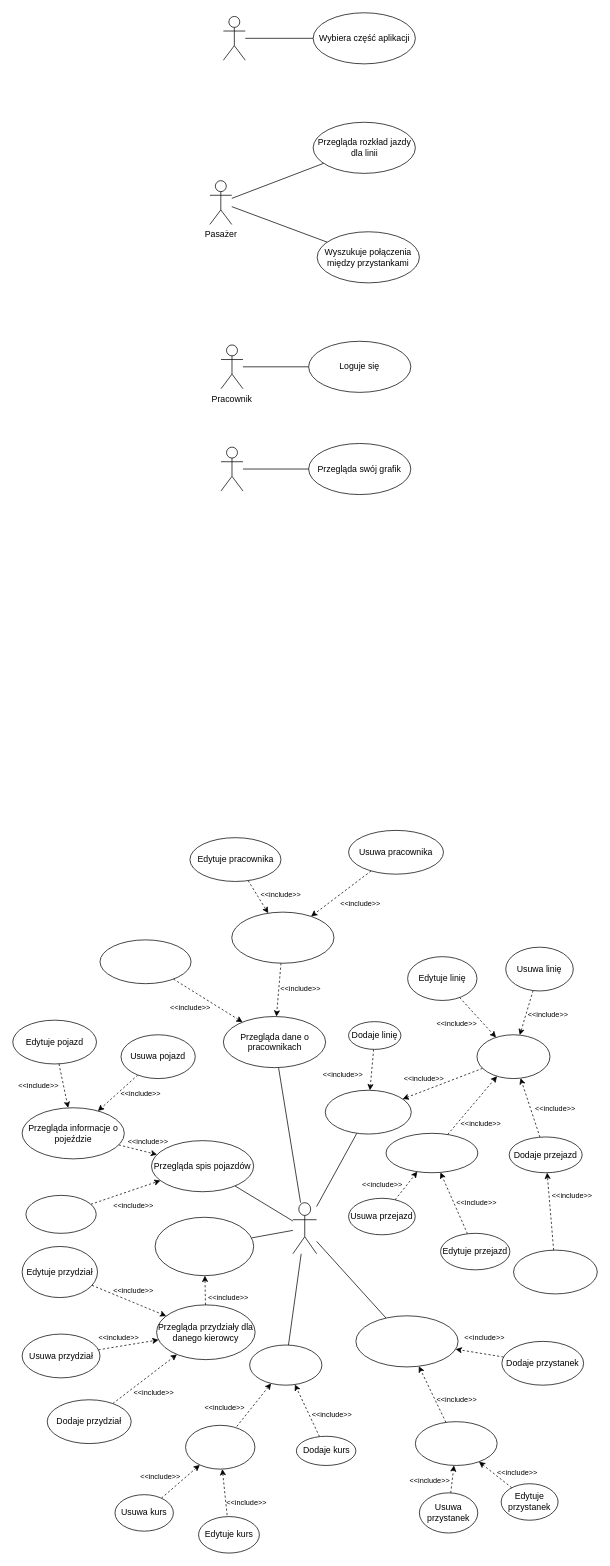
This 610x1566 diagram has some shape labels left out. Here are the shapes that lost their labels. From the top down, the centre of each, then its label:
At point 234,38: "Użytkownik".
At point 231,468: "Kierowca".
At point 282,937: "Przegląda informacje o pracowniku".
At point 145,961: "Dodaje pracownika".
At point 513,1056: "Przegląda informacje o linii".
At point 368,1112: "Przegląda spis linii".
At point 431,1153: "Przegląda wybrany przejazd".
At point 60,1214: "Dodaje pojazd".
At point 304,1228: "Zarządca".
At point 204,1246: "Wybiera kierowcę".
At point 555,1271: "Dodaje nową trasę".
At point 406,1341: "Przegląda spis przystanków".
At point 285,1364: "Przegląda spis kursów".
At point 220,1447: "Przegląda informacje o kursie".
At point 456,1443: "Przegląda informacje o przystanku".
